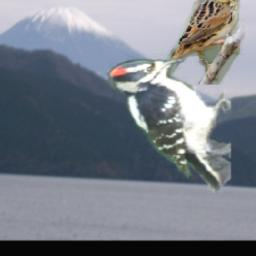Sparrow: (149, 0, 245, 85)
Woodpecker: (106, 55, 231, 194)
